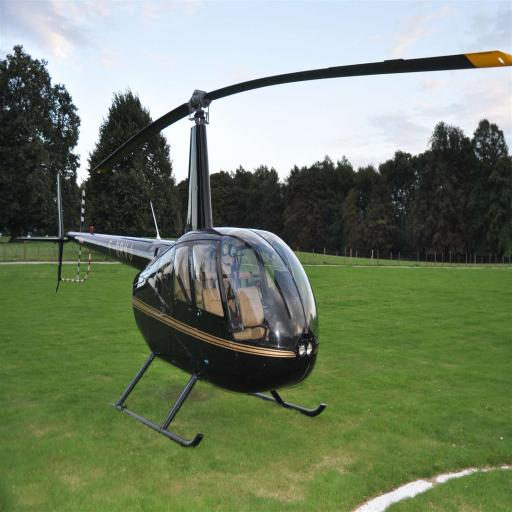helicopter: (16, 48, 512, 457)
